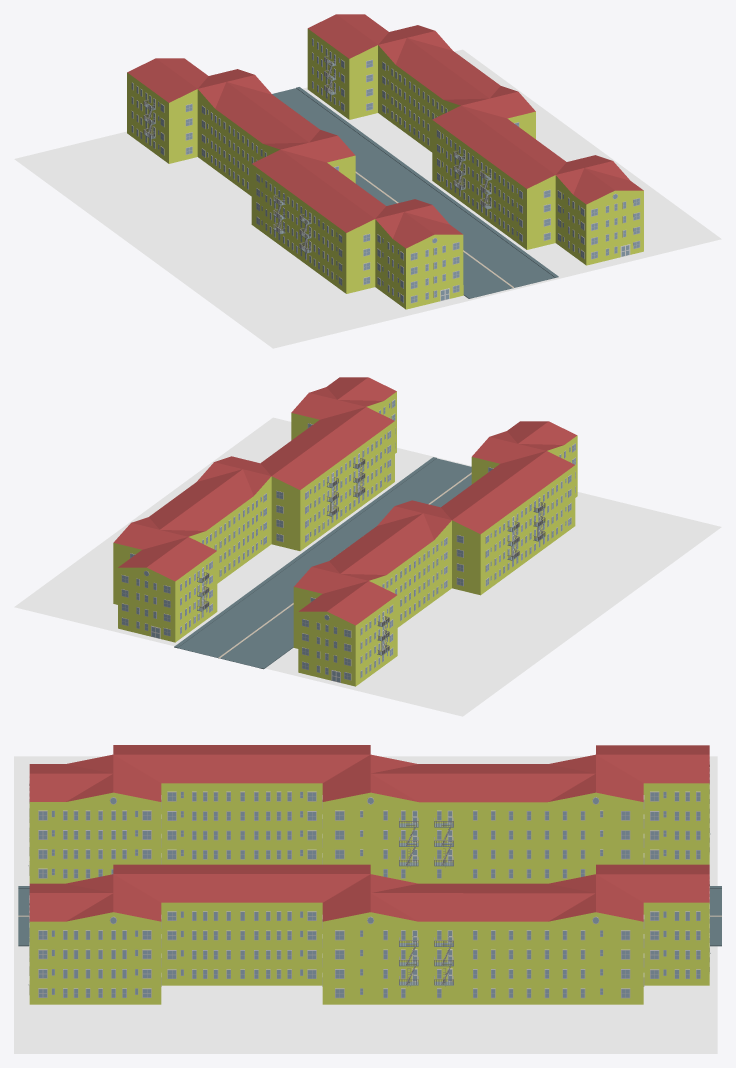
The model's file is BROAD_FORWARD.fbx.
3 renders of one model, top to bottom at view 1: azimuth 30°, elevation 25°; view 2: azimuth 150°, elevation 25°; view 3: azimuth 270°, elevation 25°, orthographic. The views are drawn at different scales.
Visible parts, largest first — view 1: Plane, Building_B, Building_B_1, ModularTrackStraight; view 2: Plane, Building_B, Building_B_1, ModularTrackStraight; view 3: Building_B_1, Building_B, Plane, ModularTrackStraight.
Part boxes in pixels (x1,y1,x2,y2): Plane: (14, 49, 721, 348); Building_B: (127, 58, 463, 309); Building_B_1: (307, 14, 643, 265); ModularTrackStraight: (272, 87, 558, 298); Plane: (14, 417, 721, 716); Building_B: (293, 421, 577, 686); Building_B_1: (113, 377, 396, 642); ModularTrackStraight: (174, 457, 471, 669); Building_B_1: (28, 864, 710, 1004); Building_B: (28, 745, 710, 883); Plane: (14, 756, 717, 1053); ModularTrackStraight: (18, 886, 721, 946).
Bounding box in the file's own units: 10000 × 1471 × 10060.
